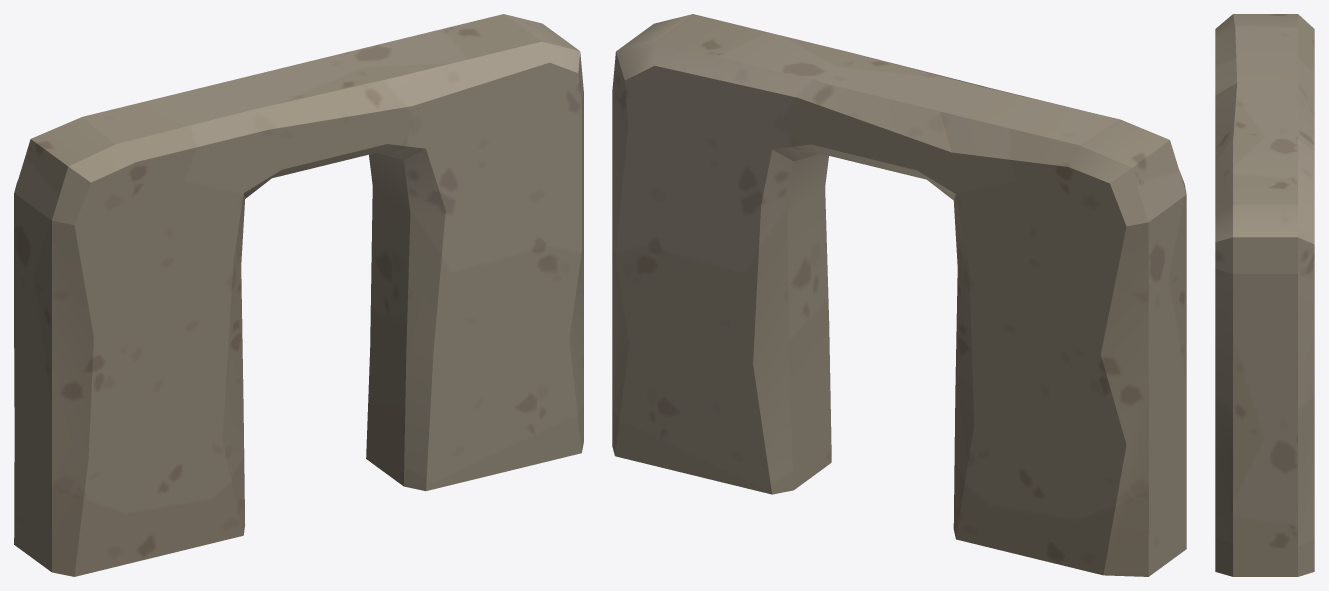
File: SM_Env_Ruin_02.glb
The picture shows the model from 3 angles, left to right: view 1: azimuth 30°, elevation 25°; view 2: azimuth 150°, elevation 25°; view 3: azimuth 270°, elevation 25°; orthographic projection. The views are drawn at different scales.
Visible parts, largest first — view 1: SM_Env_Ruin_02; view 2: SM_Env_Ruin_02; view 3: SM_Env_Ruin_02.
Part boxes in pixels (x1,y1,x2,y2): SM_Env_Ruin_02: (14,14,583,576); SM_Env_Ruin_02: (612,14,1186,576); SM_Env_Ruin_02: (1215,14,1314,576).
Bounding box in the file's own units: 4.8 × 3.55 × 0.9027.
Materials: 1 (1 with a texture image).
